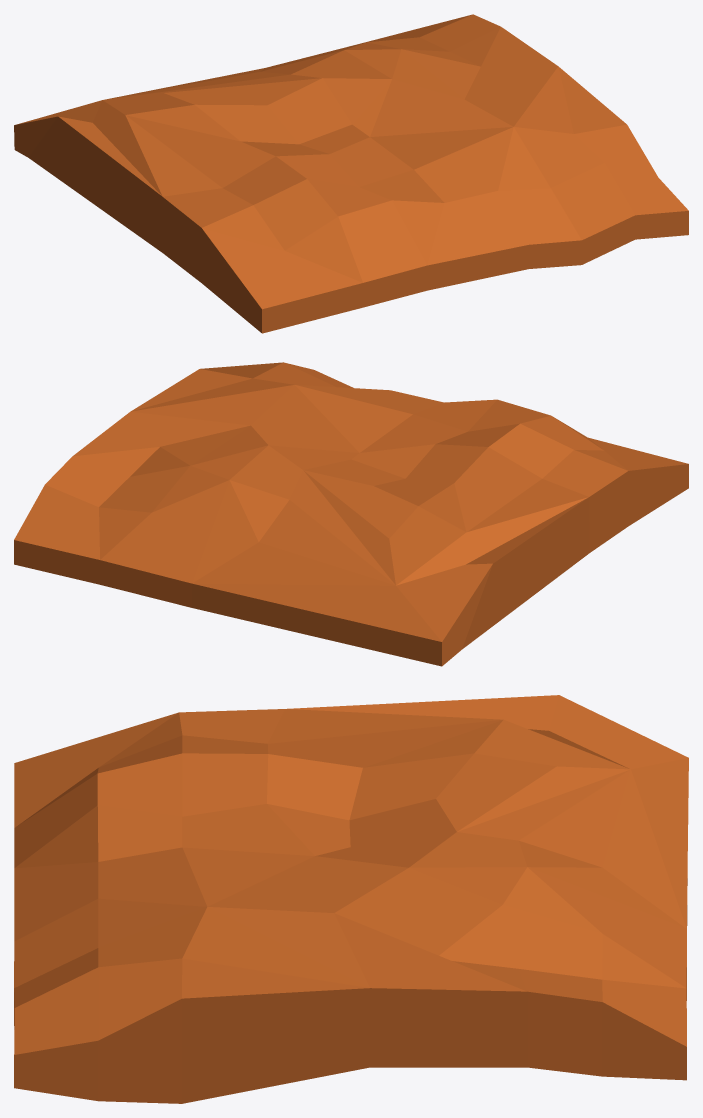
Rendered from Path 1.fbx.
3 views of the same model, one above another, from view 1: azimuth 30°, elevation 25°; view 2: azimuth 150°, elevation 25°; view 3: azimuth 270°, elevation 25° (orthographic). The views are drawn at different scales.
Visible parts, largest first — view 1: Path 1; view 2: Path 1; view 3: Path 1.
Boxes of the visible parts, x1,y1,x2,y2 form: Path 1: [14, 14, 688, 333]; Path 1: [14, 362, 688, 666]; Path 1: [14, 695, 688, 1103].
Size of the model in its own units: 5.6 by 1.25 by 5.56.
